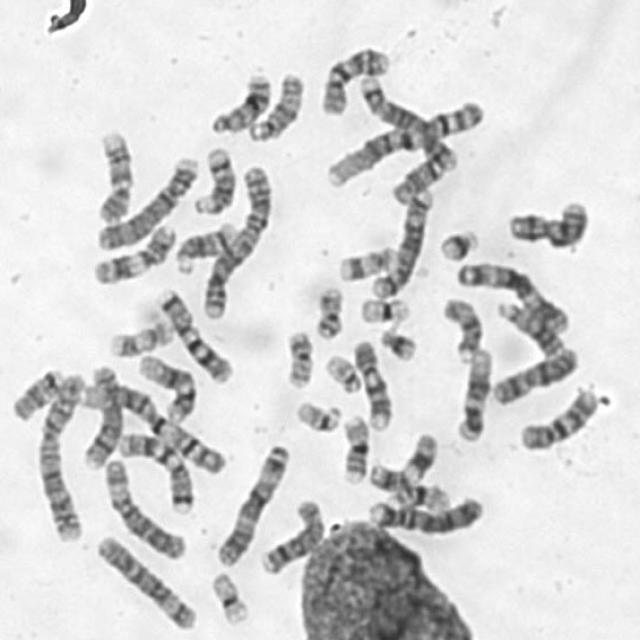A1: (321, 97, 487, 189), (78, 376, 228, 476)
A2: (198, 162, 276, 321), (33, 367, 88, 544)
A3: (211, 439, 293, 568), (451, 257, 571, 336)
B4: (93, 153, 200, 252), (362, 492, 484, 536)
B5: (355, 71, 459, 173), (366, 184, 436, 300)
C10: (516, 382, 600, 453), (317, 44, 391, 116)
C11: (90, 219, 178, 286), (365, 429, 440, 494)
C12: (134, 350, 198, 422), (454, 346, 494, 442)
C6: (93, 530, 200, 633), (100, 454, 188, 560)
C7: (154, 285, 234, 385), (115, 430, 193, 514)
C8: (256, 496, 326, 576), (80, 362, 124, 470)
C9: (90, 125, 134, 224), (350, 337, 392, 433)
D13: (206, 69, 274, 136), (494, 297, 564, 360)
D14: (172, 218, 237, 276), (189, 144, 237, 217)
D15: (244, 69, 306, 143), (440, 294, 484, 364)
E16: (338, 412, 371, 486), (387, 480, 453, 512)
E17: (106, 316, 176, 358), (335, 241, 398, 284)
E18: (8, 363, 64, 424), (389, 155, 447, 207)
F19: (208, 567, 251, 627), (355, 292, 413, 326)
F20: (282, 326, 316, 391), (311, 284, 345, 341)
G21: (376, 324, 420, 363), (436, 225, 480, 261)
G22: (292, 396, 342, 433), (322, 350, 362, 394)
X: (486, 343, 581, 407), (504, 196, 592, 248)
